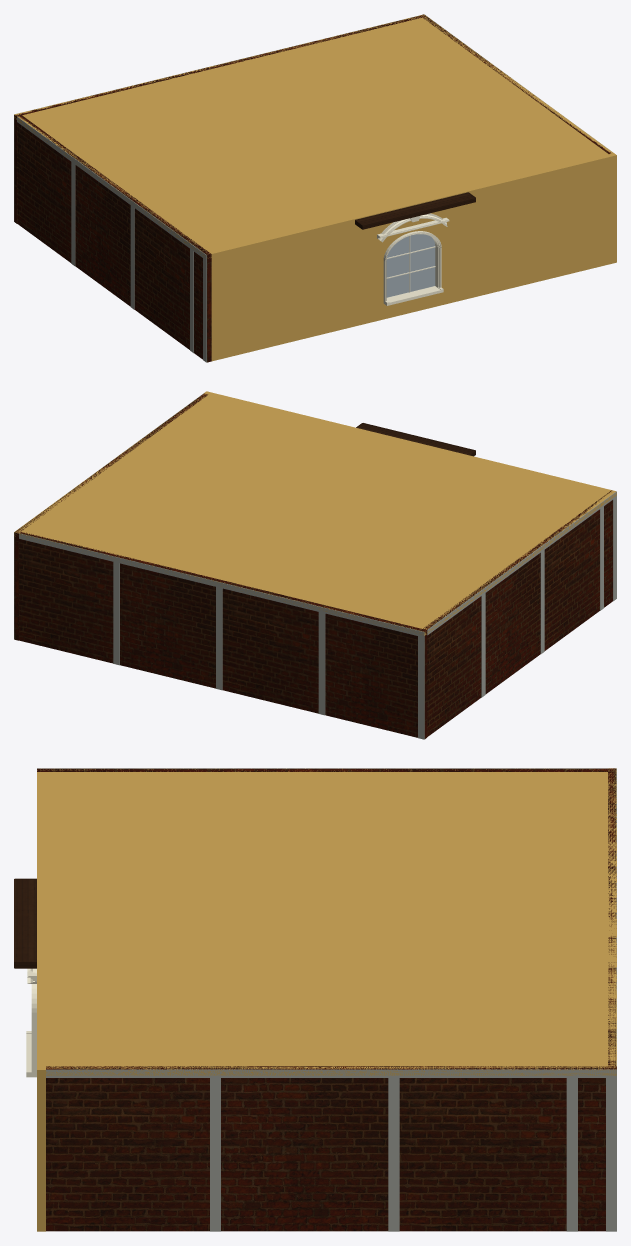
The model's file is building.glb.
3 views of the same model, one above another, from view 1: azimuth 30°, elevation 25°; view 2: azimuth 150°, elevation 25°; view 3: azimuth 270°, elevation 25° (orthographic). The views are drawn at different scales.
Parts seen in each view (by area): view 1: roof/house:0/roof_slab#0001, house:0/edge0/z0/house:0/edge0/z0/wall_0_0, house:0/edge3/z0/house:0/edge3/z0/wall_0_0, house:0/edge0/z0/opening_u6.90_v0.60/window_glass#0001, house:0/edge2/z0/house:0/edge2/z0/wall_0_0, house:0/edge3/z0/house:0/edge3/z0/beam_0_0, roof_assembly/legacy_eave/eave#0001, house:0/edge1/z0/house:0/edge1/z0/wall_0_0, roof_assembly/legacy_eave/eave_fascia#0002, house:0/edge3/z0/house:0/edge3/z0/column_3_0, house:0/edge3/z0/house:0/edge3/z0/column_2_0; view 2: roof/house:0/roof_slab#0001, house:0/edge2/z0/house:0/edge2/z0/wall_0_0, house:0/edge3/z0/house:0/edge3/z0/wall_0_0, house:0/edge2/z0/house:0/edge2/z0/beam_0_0, house:0/edge1/z0/house:0/edge1/z0/wall_0_0, house:0/edge0/z0/house:0/edge0/z0/wall_0_0, house:0/edge3/z0/house:0/edge3/z0/beam_0_0, house:0/edge2/z0/house:0/edge2/z0/column_4_0, roof_assembly/legacy_eave/eave#0001, house:0/edge2/z0/house:0/edge2/z0/column_1_0, house:0/edge2/z0/house:0/edge2/z0/column_3_0, house:0/edge2/z0/house:0/edge2/z0/column_2_0 (+2 smaller); view 3: roof/house:0/roof_slab#0001, house:0/edge1/z0/house:0/edge1/z0/wall_0_0, house:0/edge1/z0/house:0/edge1/z0/beam_0_0, house:0/edge0/z0/house:0/edge0/z0/wall_0_0, house:0/edge3/z0/house:0/edge3/z0/wall_0_0, house:0/edge1/z0/house:0/edge1/z0/column_3_0, house:0/edge1/z0/house:0/edge1/z0/column_4_0, roof_assembly/legacy_eave/eave#0001, house:0/edge2/z0/house:0/edge2/z0/wall_0_0, house:0/edge1/z0/house:0/edge1/z0/column_1_0, house:0/edge1/z0/house:0/edge1/z0/column_2_0.
Part boxes in pixels (x1,y1,x2,y2): roof/house:0/roof_slab#0001: (14, 14, 616, 258); house:0/edge0/z0/house:0/edge0/z0/wall_0_0: (209, 154, 616, 361); house:0/edge3/z0/house:0/edge3/z0/wall_0_0: (17, 115, 211, 362); house:0/edge0/z0/opening_u6.90_v0.60/window_glass#0001: (386, 234, 435, 297); house:0/edge2/z0/house:0/edge2/z0/wall_0_0: (14, 16, 421, 223); house:0/edge3/z0/house:0/edge3/z0/beam_0_0: (17, 116, 206, 260); roof_assembly/legacy_eave/eave#0001: (356, 193, 473, 224); house:0/edge1/z0/house:0/edge1/z0/wall_0_0: (420, 14, 610, 153); roof_assembly/legacy_eave/eave_fascia#0002: (362, 197, 475, 229); house:0/edge3/z0/house:0/edge3/z0/column_3_0: (130, 205, 134, 309); house:0/edge3/z0/house:0/edge3/z0/column_2_0: (71, 162, 75, 266); roof/house:0/roof_slab#0001: (14, 392, 616, 635); house:0/edge2/z0/house:0/edge2/z0/wall_0_0: (19, 532, 427, 738); house:0/edge3/z0/house:0/edge3/z0/wall_0_0: (423, 490, 612, 736); house:0/edge2/z0/house:0/edge2/z0/beam_0_0: (19, 533, 424, 637); house:0/edge1/z0/house:0/edge1/z0/wall_0_0: (14, 393, 207, 640); house:0/edge0/z0/house:0/edge0/z0/wall_0_0: (204, 391, 611, 491); house:0/edge3/z0/house:0/edge3/z0/beam_0_0: (427, 491, 616, 635); house:0/edge2/z0/house:0/edge2/z0/column_4_0: (318, 612, 325, 715); roof_assembly/legacy_eave/eave#0001: (357, 423, 474, 454); house:0/edge2/z0/house:0/edge2/z0/column_1_0: (418, 636, 424, 739); house:0/edge2/z0/house:0/edge2/z0/column_3_0: (216, 587, 222, 690); house:0/edge2/z0/house:0/edge2/z0/column_2_0: (113, 562, 119, 665); roof/house:0/roof_slab#0001: (37, 768, 616, 1075); house:0/edge1/z0/house:0/edge1/z0/wall_0_0: (46, 1066, 616, 1231); house:0/edge1/z0/house:0/edge1/z0/beam_0_0: (46, 1069, 616, 1077); house:0/edge0/z0/house:0/edge0/z0/wall_0_0: (37, 772, 45, 1231); house:0/edge3/z0/house:0/edge3/z0/wall_0_0: (37, 768, 607, 771); house:0/edge1/z0/house:0/edge1/z0/column_3_0: (388, 1078, 399, 1231); house:0/edge1/z0/house:0/edge1/z0/column_4_0: (566, 1078, 577, 1231); roof_assembly/legacy_eave/eave#0001: (15, 879, 36, 961); house:0/edge2/z0/house:0/edge2/z0/wall_0_0: (608, 768, 616, 1066); house:0/edge1/z0/house:0/edge1/z0/column_1_0: (606, 1078, 616, 1231); house:0/edge1/z0/house:0/edge1/z0/column_2_0: (210, 1078, 220, 1231).
Size of the model in its own units: 16 by 4 by 13.52.
7 materials, 2 textured.
